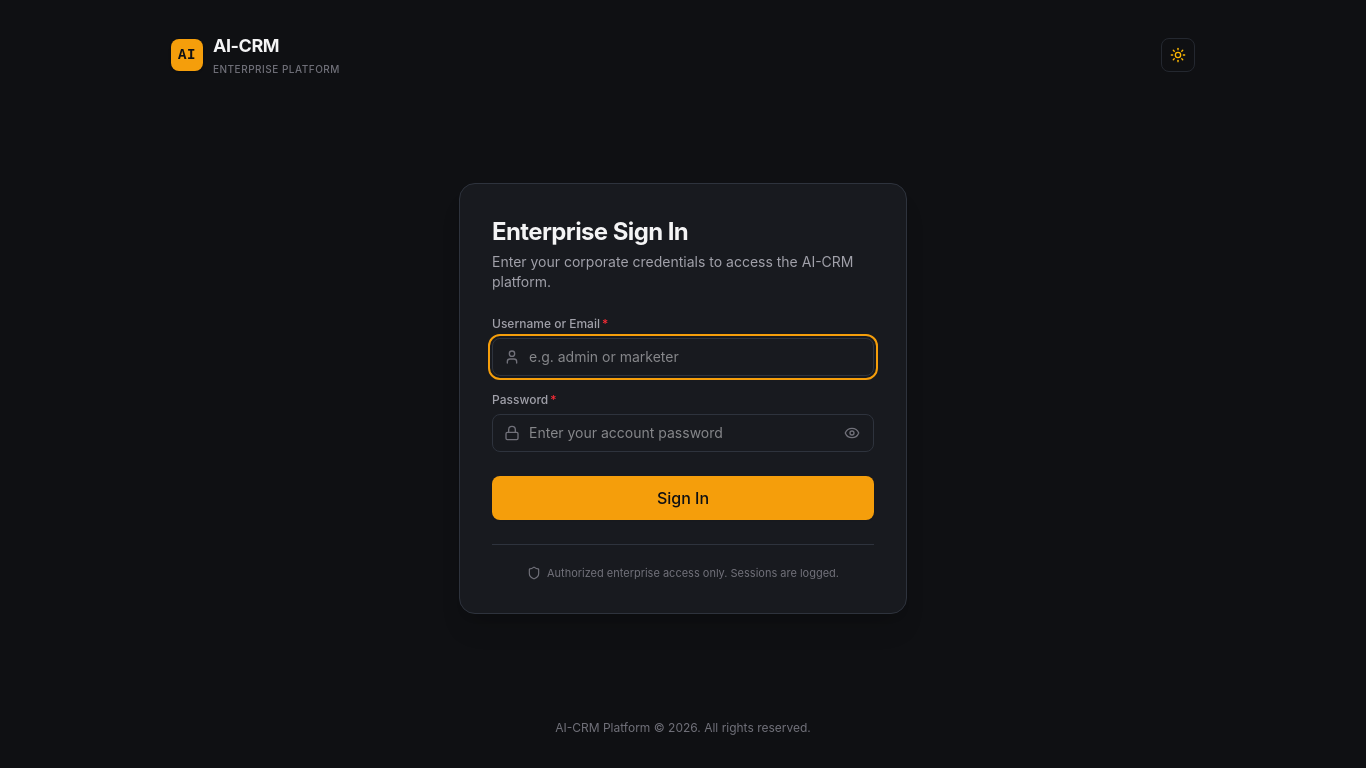
Test: LoginView Component › displays validation error if submitted empty
Click the button "Sign In". click: [683, 498]
box: x1=492 y1=476 x2=874 y2=520
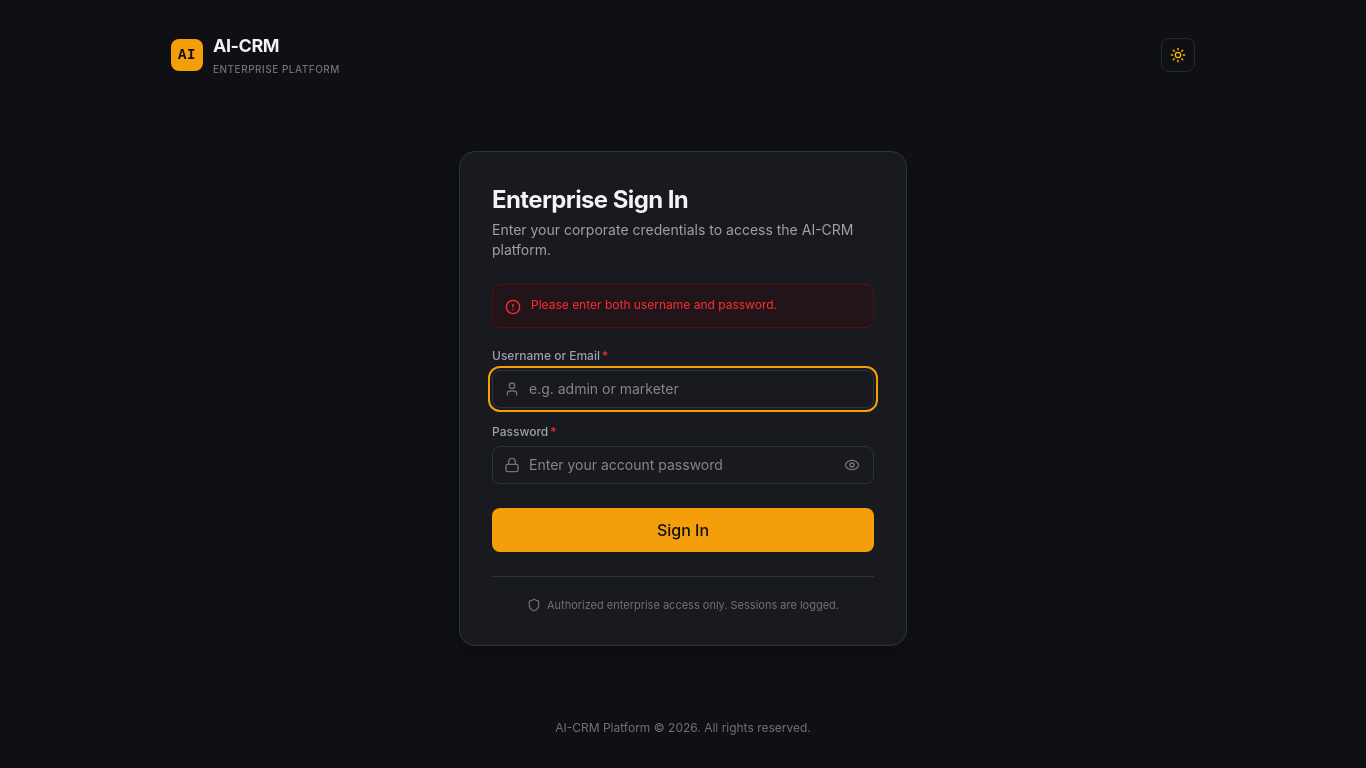
Expected: the text "Please enter both username and password." is shown, x1=531 y1=297 x2=777 y2=313
